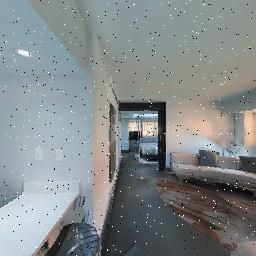door-frame: (115, 102, 165, 174)
sofa: (167, 150, 256, 196)
